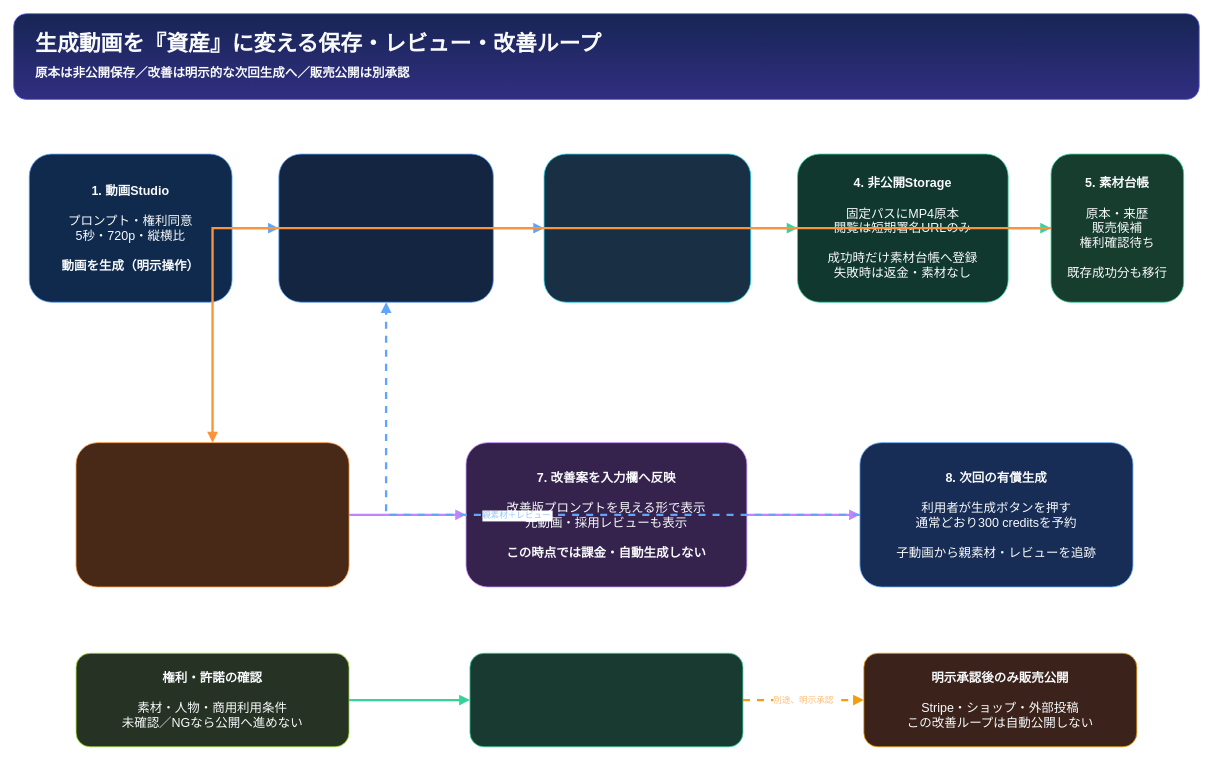
This 1213x761 diagram has some shape labels left out. Each missing label, with the centre of its shape:
"2. 生成受付API クレジット予約・冪等性 ジョブ作成・GPU起動 改善時は親素材＋レビューを固定" belongs at point (385, 227).
"3. GCP専用GPU 自社Workerで動画生成 MP4検証・サイズ取得 SHA-256を計算 Hedra / fal APIは不使用" belongs at point (647, 227).
"6. 所有者レビュー 品質・指示一致・動き・販売価値 良い点・改善点・次回プロンプト keep / improve / reject を追記" belongs at point (212, 514).
"商品化準備 説明・価格・パッケージを別工程で作成 ショップ商品は非公開ドラフトから開始" belongs at point (606, 699).
